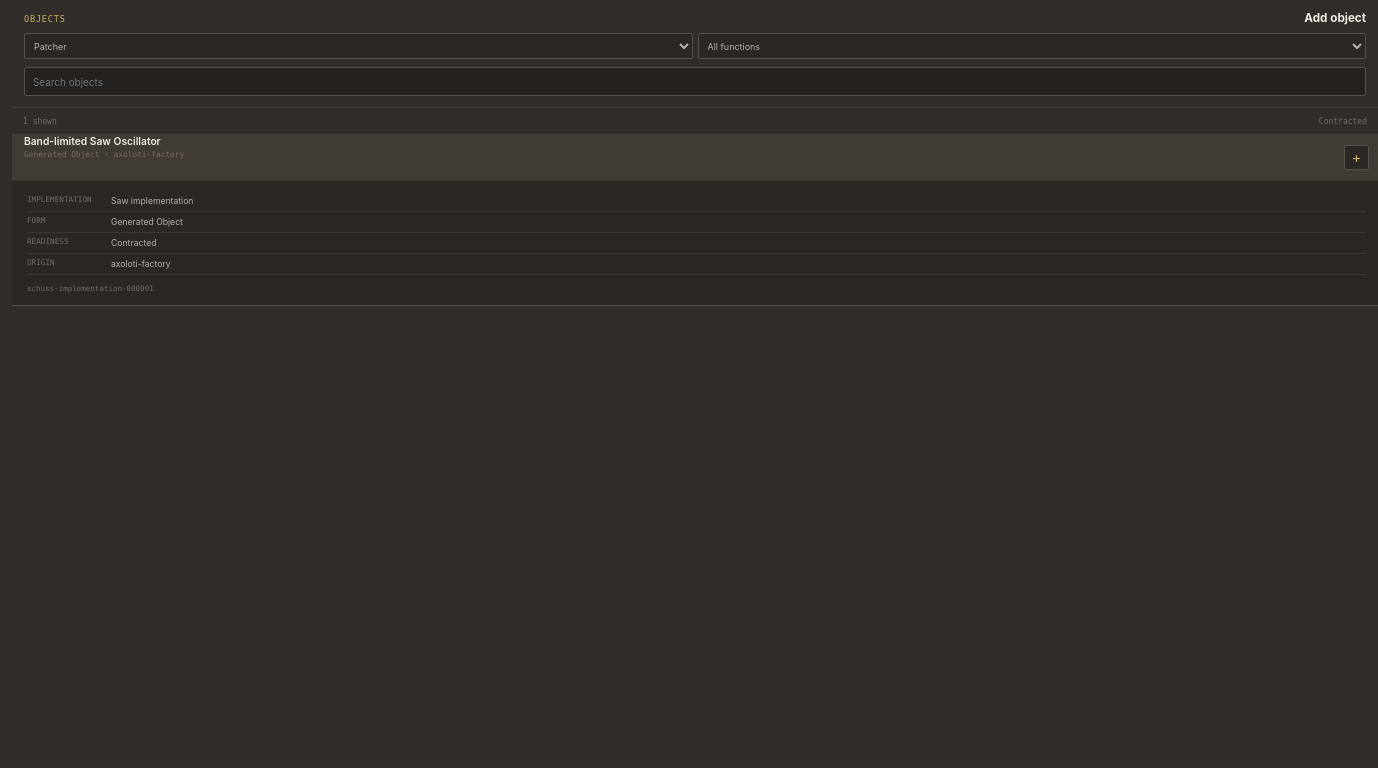
Scenario: ObjectLibrary patch drawer › resolves and adds a patcher object in one action while retaining the complete catalog
Click the button named "Add Band-limited Saw Oscillator". click: [1356, 158]
box: [1344, 145, 1369, 170]
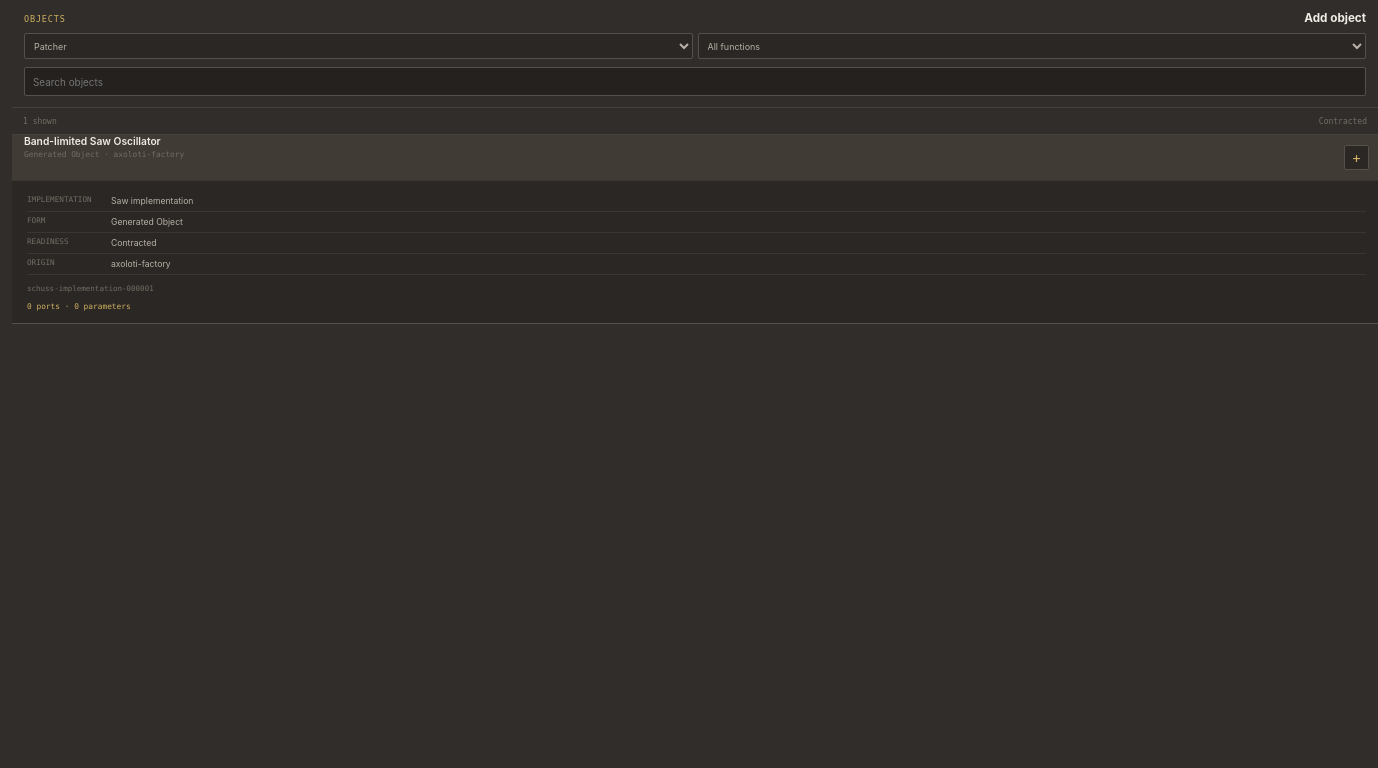
Expected: the text "Mutable Voice" is not shown
Select "All catalog" in the dropdown named "Object collection". click: [358, 46]
box: [24, 33, 692, 59]
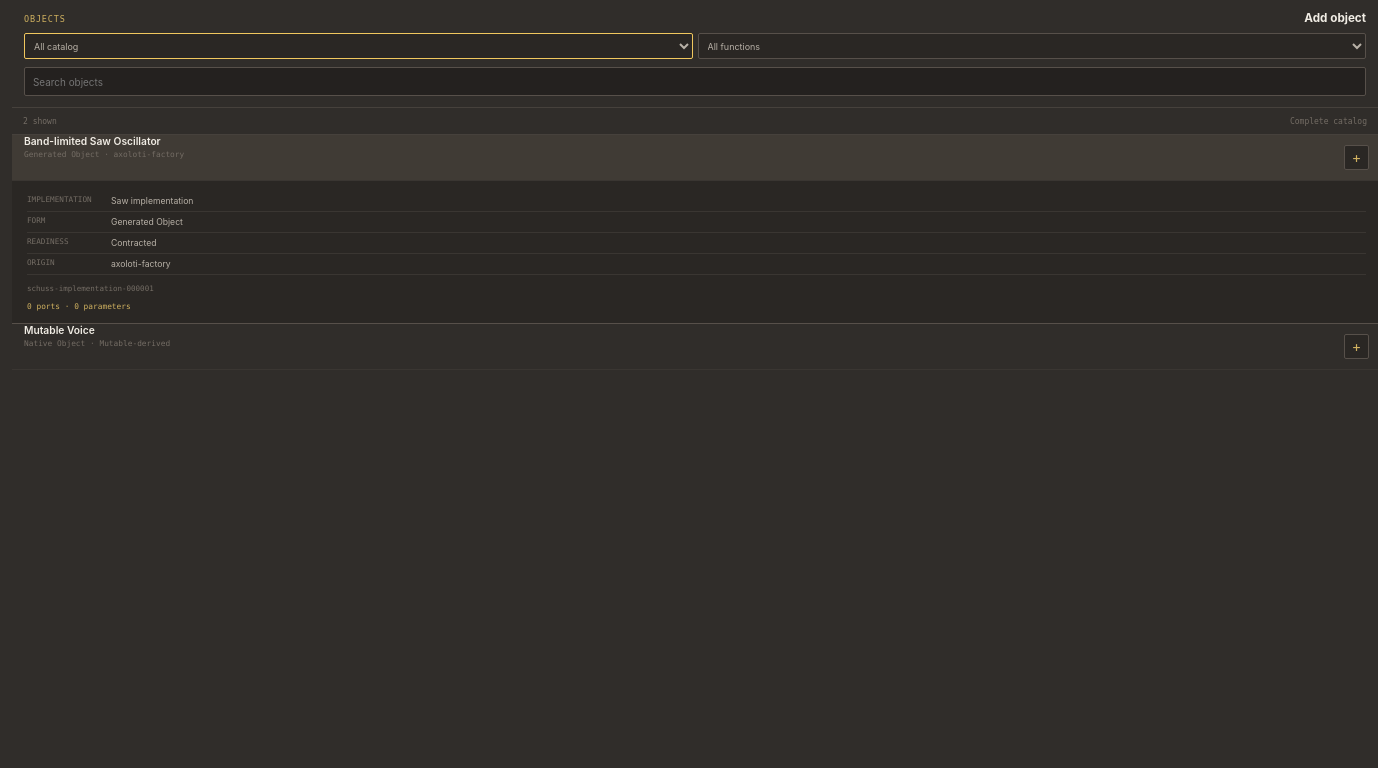
Click the button "Mutable Voice Native Object · Mutable-derived". click: [59, 330]
box: [12, 324, 1344, 369]
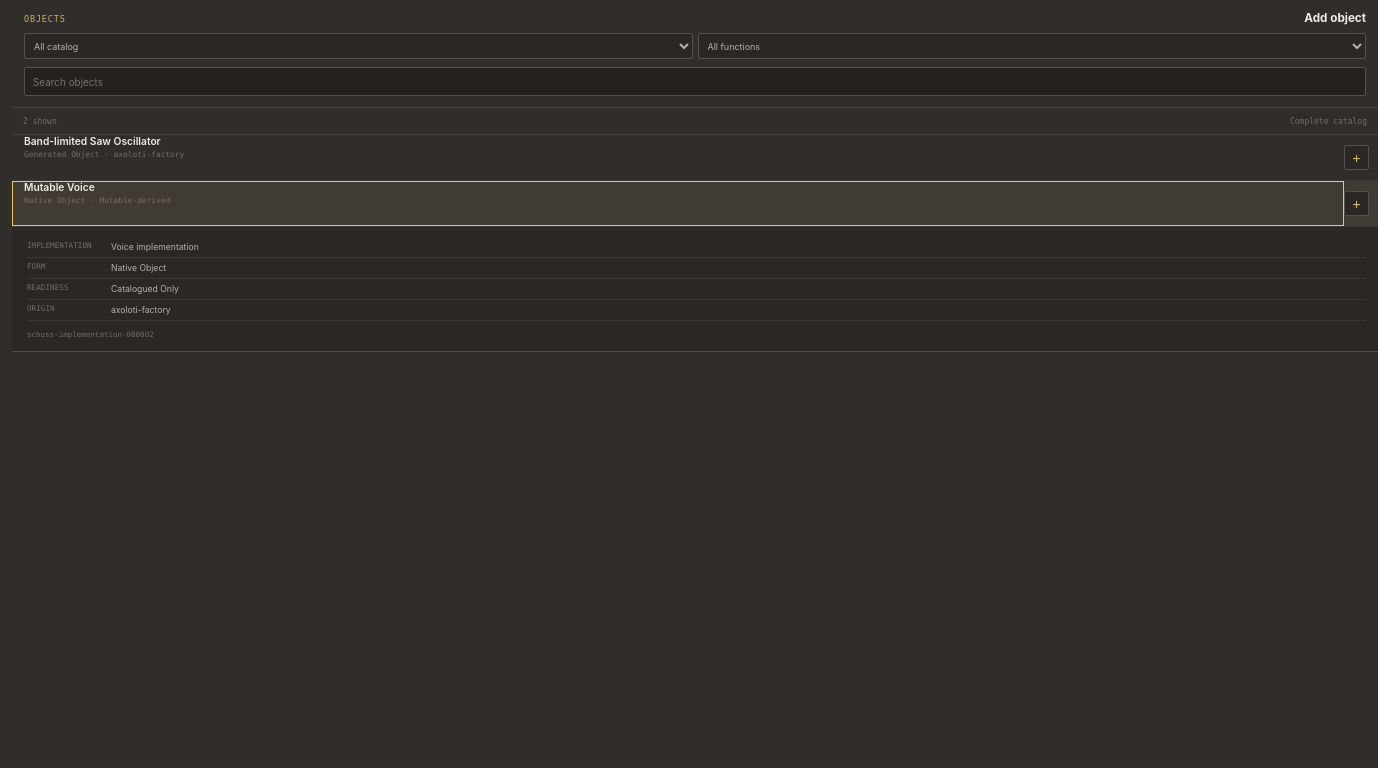
Click the button named "Add Mutable Voice". click: [1356, 204]
box: [1344, 191, 1369, 216]
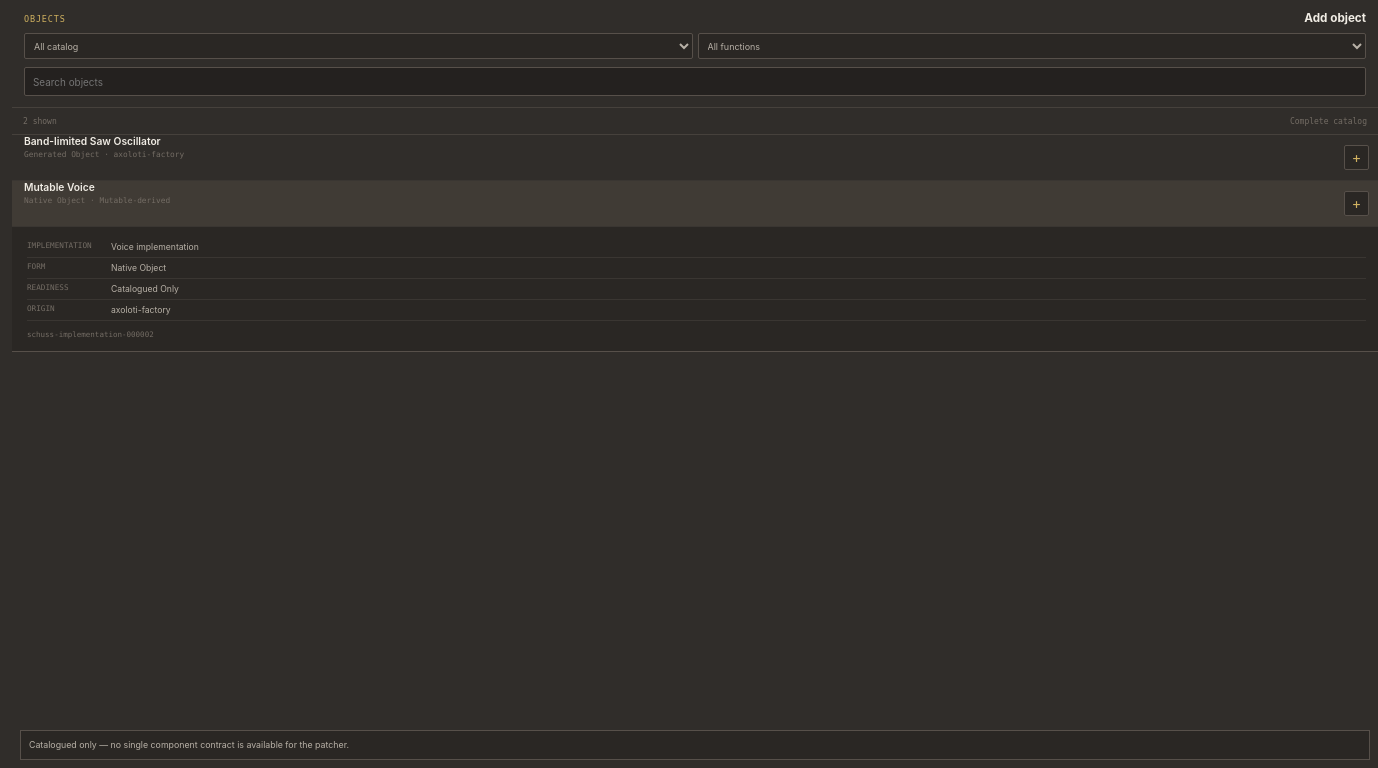
Result: the text "Catalogued only — no single component contract is available for the patcher." is shown at [20, 730, 1370, 760]
